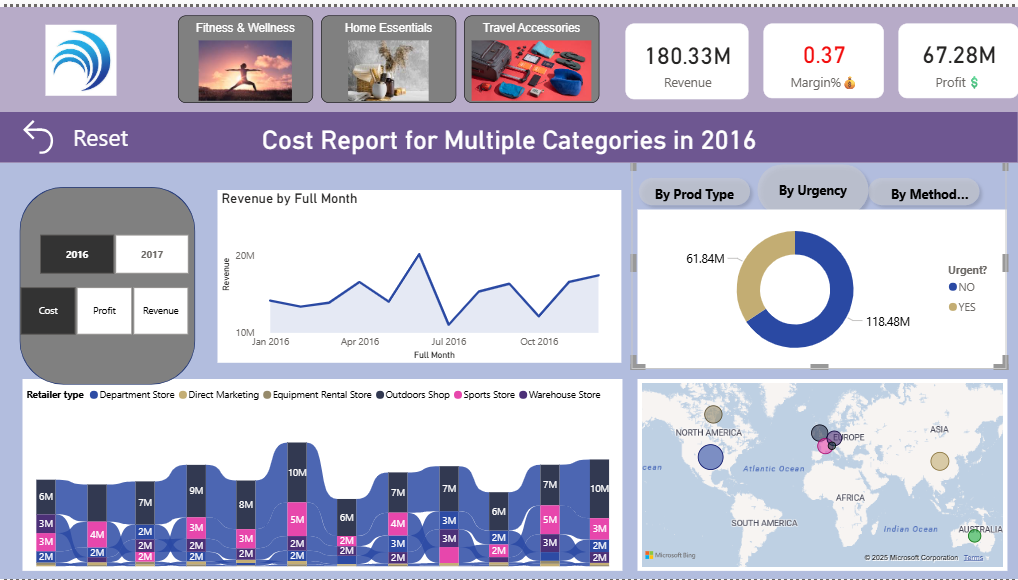

This screenshot's page, from the dashboard's own definition file:
{"tool":"powerbi","page":{"name":"Main Report","canvas":[1280,720],"ordinal":0},"visuals":[{"type":"card","title":"C_Revenue","fields":{"Values":["Sum(Sales.Revenue)"]},"box":[786.3,20.4,154.7,95],"z":0,"group":"g3"},{"type":"group","id":"g1","title":"Bookmarks","box":[793.4,187.8,472.8,267.2],"z":0},{"type":"group","id":"g2","title":"Buttons","box":[793.4,187.8,452.7,89.5],"z":0,"group":"g1"},{"type":"shape","title":"Slicerbackground","box":[36.9,205.3,221.1,248.7],"z":0,"group":"g5"},{"type":"donutChart","fields":{"Category":["Sales.Urgent?"],"Y":["Sales.Values"]},"box":[801.7,254.3,464.7,200.4],"z":0,"group":"g4"},{"type":"group","id":"g3","title":"ReportTitle","box":[0,0,1280.8,195.8],"z":1000},{"type":"card","title":"C_Profit","fields":{"Values":["Sum(Sales.Profit)"]},"box":[1129.6,21.6,151.2,94.2],"z":1000,"group":"g3"},{"type":"actionButton","title":"B_ProdType","box":[793.4,204.6,158.1,52.6],"z":1000,"group":"g2"},{"type":"group","id":"g4","title":"Visuals","box":[793.6,254.3,472.8,200.4],"z":1000,"group":"g1"},{"type":"slicer","title":"KPISlicer","fields":{"Values":["KPI.KPI"]},"box":[13.2,323.7,260.5,73.7],"z":1000,"group":"g5"},{"type":"card","title":"C_Margin","fields":{"Values":["Sales.Margin%"]},"box":[959.7,21.6,151.2,94.2],"z":2000,"group":"g3"},{"type":"actionButton","title":"BB_Urgent","box":[941.6,187.8,158,82.1],"z":2000,"group":"g2"},{"type":"areaChart","fields":{"Category":["Date.Full Month"],"Y":["Sales.Values"]},"box":[283.4,205.6,498.7,249.4],"z":2000},{"type":"slicer","title":"Year_Slicer","fields":{"Values":["Date.Year"]},"box":[36.9,257.9,236.8,63.2],"z":2000,"group":"g5"},{"type":"ChicletSlicer1448559807354","fields":{"Category":["ProductLineImages.Product Line"],"Image":["ProductLineImages.Image"]},"box":[213.2,0,572.9,132.4],"z":3000,"group":"g3"},{"type":"ribbonChart","fields":{"Y":["Sum(Sales.Revenue)"],"Category":["Date.Full Month"],"Series":["Sales.Retailer type"]},"box":[27.5,468,754.6,241.3],"z":3000},{"type":"card","title":"Report_Title","fields":{"Values":["Sales.Measure"]},"box":[0,132.4,1280.3,63.4],"z":4000,"group":"g3"},{"type":"map","fields":{"Category":["City.Country"],"Series":["City.Country"],"Size":["Sales.Values"]},"box":[801.2,467.5,465,241.2],"z":4000},{"type":"image","box":[36.6,16.3,132.1,99.6],"z":5000},{"type":"actionButton","title":"B_OM_Type","box":[1082.4,203.9,158,52.6],"z":5000,"group":"g2"},{"type":"group","id":"g5","title":"Slicer","box":[13.2,205.3,260.5,248.7],"z":6000},{"type":"actionButton","box":[21.1,136.6,147.9,54.9],"z":7000}]}

Visuals, with their boxes in screenshot pixels (x1, y1, x2, y2), scaled from the page's 1280x720 canvas onto the 1018x580 screenshot:
"C_Revenue" card: left=625, top=16, right=748, bottom=93
"Bookmarks" group: left=631, top=151, right=1007, bottom=367
"Buttons" group: left=631, top=151, right=991, bottom=223
"Slicerbackground" shape: left=29, top=165, right=205, bottom=366
donutChart - Sales.Urgent? x Sales.Values: left=638, top=205, right=1007, bottom=366
"ReportTitle" group: left=0, top=0, right=1017, bottom=158
"C_Profit" card: left=898, top=17, right=1017, bottom=93
"B_ProdType" actionButton: left=631, top=165, right=757, bottom=207
"Visuals" group: left=631, top=205, right=1007, bottom=366
"KPISlicer" slicer: left=10, top=261, right=218, bottom=320
"C_Margin" card: left=763, top=17, right=884, bottom=93
"BB_Urgent" actionButton: left=749, top=151, right=875, bottom=217
areaChart - Date.Full Month x Sales.Values: left=225, top=166, right=622, bottom=367
"Year_Slicer" slicer: left=29, top=208, right=218, bottom=259
ChicletSlicer1448559807354 - ProductLineImages.Product Line x ProductLineImages.Image: left=170, top=0, right=625, bottom=107
ribbonChart - Sum(Sales.Revenue) x Date.Full Month: left=22, top=377, right=622, bottom=571
"Report_Title" card: left=0, top=107, right=1017, bottom=158
map - City.Country x City.Country: left=637, top=377, right=1007, bottom=571
image: left=29, top=13, right=134, bottom=93
"B_OM_Type" actionButton: left=861, top=164, right=987, bottom=207
"Slicer" group: left=10, top=165, right=218, bottom=366
actionButton: left=17, top=110, right=134, bottom=154
